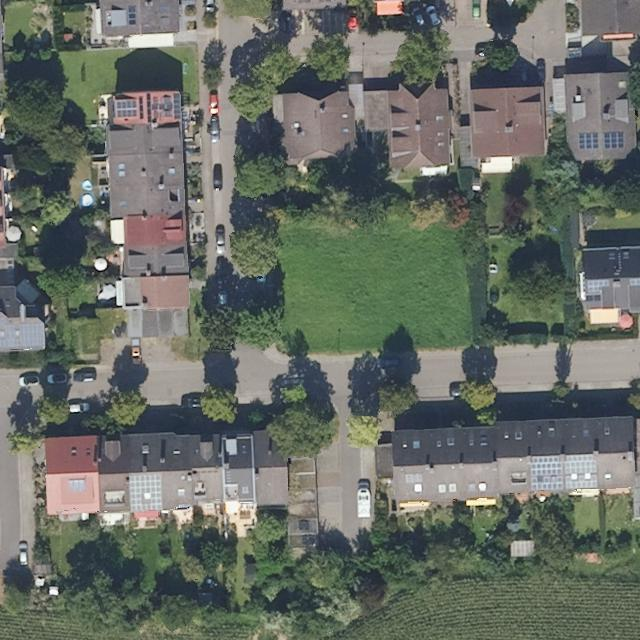PV: (128, 471, 164, 513), (527, 454, 565, 493), (564, 453, 600, 491), (0, 322, 45, 350), (114, 98, 140, 118), (577, 130, 600, 152), (603, 129, 626, 151), (587, 278, 611, 294), (66, 478, 88, 494), (171, 91, 182, 120), (127, 2, 138, 27), (144, 91, 152, 124), (139, 94, 145, 121), (628, 277, 639, 287)
